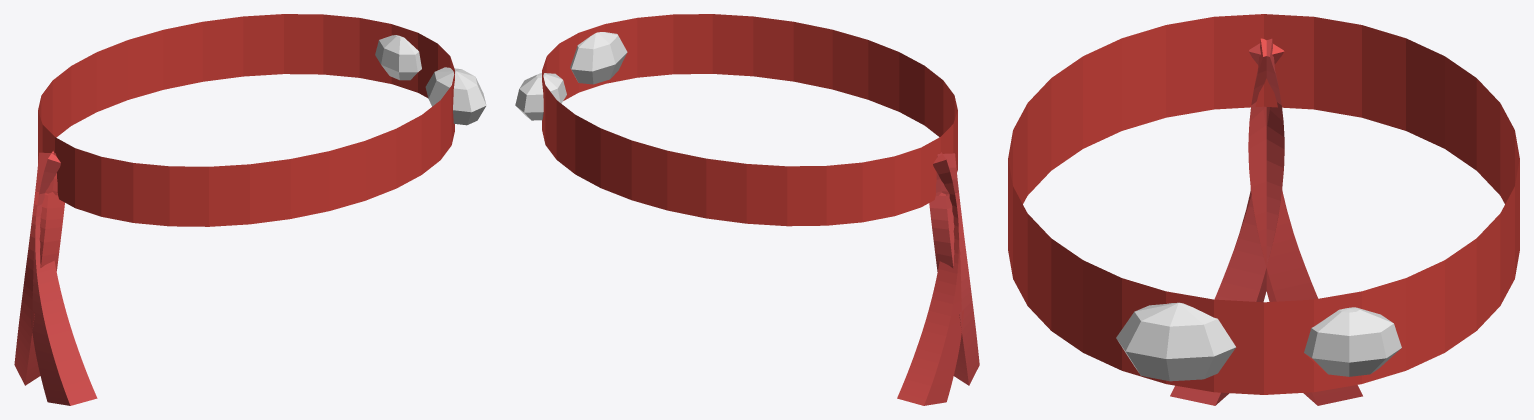
Rendered from bandana.fbx.
The picture shows the model from 3 angles, left to right: view 1: azimuth 30°, elevation 25°; view 2: azimuth 150°, elevation 25°; view 3: azimuth 270°, elevation 25°; orthographic projection. The views are drawn at different scales.
Visible parts, largest first — view 1: Cylinder, Cylinder.001, Cube, Cube.001; view 2: Cylinder, Cylinder.001, Cube.001, Cube; view 3: Cylinder, Cylinder.001, Cube.001, Cube.
Part boxes in pixels (<box>): Cylinder: <box>38,14,486,226</box>; Cylinder.001: <box>38,14,485,226</box>; Cube: <box>30,151,97,405</box>; Cube.001: <box>14,152,64,385</box>; Cylinder: <box>515,14,957,226</box>; Cylinder.001: <box>516,14,957,225</box>; Cube.001: <box>897,152,963,405</box>; Cube: <box>929,153,979,385</box>; Cylinder: <box>1008,14,1519,394</box>; Cylinder.001: <box>1008,14,1519,394</box>; Cube.001: <box>1248,38,1362,405</box>; Cube: <box>1170,38,1284,405</box>.
Size of the model in its own units: 438 by 253 by 300.
